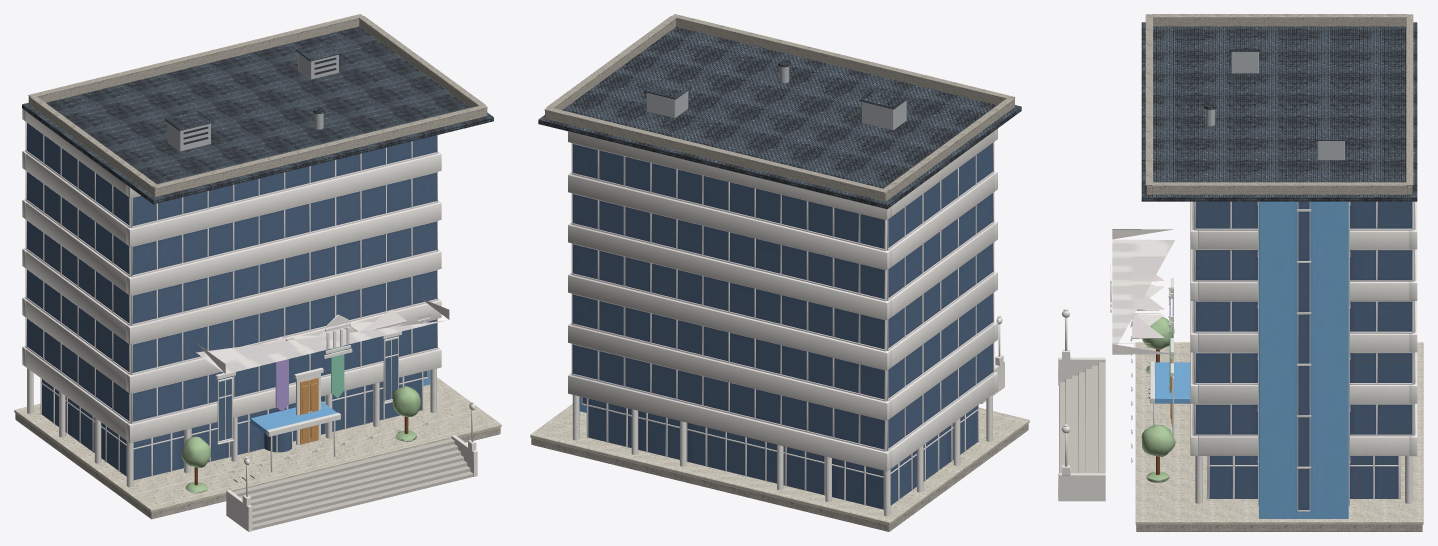
File: ov-lib.glb
The picture shows the model from 3 angles, left to right: view 1: azimuth 30°, elevation 25°; view 2: azimuth 150°, elevation 25°; view 3: azimuth 270°, elevation 25°; orthographic projection. The views are drawn at different scales.
Visible parts, largest first — view 1: office-building_facade, office-building_shell, lib_roof_slab, lib_portico_details, office-building_body, lib_plinth_cap, lib_portico_body, lib_parapet_S, lib_parapet_N, lib_plinth, lib_parapet_cap_S, lib_parapet_cap_N (+8 smaller); view 2: office-building_facade, office-building_shell, lib_roof_slab, office-building_body, lib_plinth_cap, lib_plinth, lib_parapet_N, lib_parapet_S, lib_parapet_cap_N, lib_parapet_cap_S, lib_parapet_W, lib_parapet_E (+6 smaller); view 3: office-building_facade, lib_roof_slab, office-building_shell, lib_plinth_cap, office-building_body, lib_portico_details, lib_portico_body, lib_plinth, lib_parapet_E, lib_parapet_W, lib_parapet_cap_N, lib_parapet_cap_S (+6 smaller).
Part boxes in pixels (bbox=[...]): office-building_facade: bbox=[25, 122, 437, 423]; office-building_shell: bbox=[22, 109, 441, 443]; lib_roof_slab: bbox=[22, 26, 493, 204]; lib_portico_details: bbox=[215, 327, 477, 531]; office-building_body: bbox=[27, 368, 436, 493]; lib_plinth_cap: bbox=[14, 377, 501, 512]; lib_portico_body: bbox=[196, 298, 449, 473]; lib_parapet_S: bbox=[152, 108, 487, 196]; lib_parapet_N: bbox=[28, 18, 359, 106]; lib_plinth: bbox=[15, 413, 500, 519]; lib_parapet_cap_S: bbox=[152, 104, 487, 188]; lib_parapet_cap_N: bbox=[28, 14, 362, 97]; office-building_facade: bbox=[571, 142, 994, 451]; office-building_shell: bbox=[568, 128, 997, 471]; lib_roof_slab: bbox=[538, 27, 1021, 208]; office-building_body: bbox=[572, 394, 992, 516]; lib_plinth_cap: bbox=[530, 404, 1029, 524]; lib_plinth: bbox=[531, 423, 1028, 531]; lib_parapet_N: bbox=[545, 110, 887, 201]; lib_parapet_S: bbox=[676, 18, 1014, 108]; lib_parapet_cap_N: bbox=[544, 107, 887, 193]; lib_parapet_cap_S: bbox=[672, 14, 1015, 99]; lib_parapet_W: bbox=[888, 101, 1012, 199]; lib_parapet_E: bbox=[554, 19, 675, 110]; office-building_facade: bbox=[1192, 201, 1415, 518]; lib_roof_slab: bbox=[1141, 22, 1417, 201]; office-building_shell: bbox=[1190, 201, 1417, 455]; lib_plinth_cap: bbox=[1135, 342, 1423, 524]; office-building_body: bbox=[1141, 317, 1412, 503]; lib_portico_details: bbox=[1058, 278, 1173, 501]; lib_portico_body: bbox=[1112, 229, 1174, 462]; lib_plinth: bbox=[1136, 524, 1422, 531]; lib_parapet_E: bbox=[1152, 186, 1406, 194]; lib_parapet_W: bbox=[1153, 18, 1405, 26]; lib_parapet_cap_N: bbox=[1406, 14, 1413, 185]; lib_parapet_cap_S: bbox=[1145, 14, 1152, 185].
Size of the model in its own units: 24.7 by 22.87 by 21.17.
Materials: 16 (7 with a texture image).
